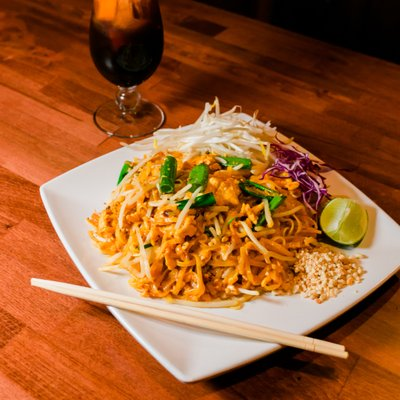curry: (0, 1, 395, 396)
sandwich: (88, 0, 167, 138)
